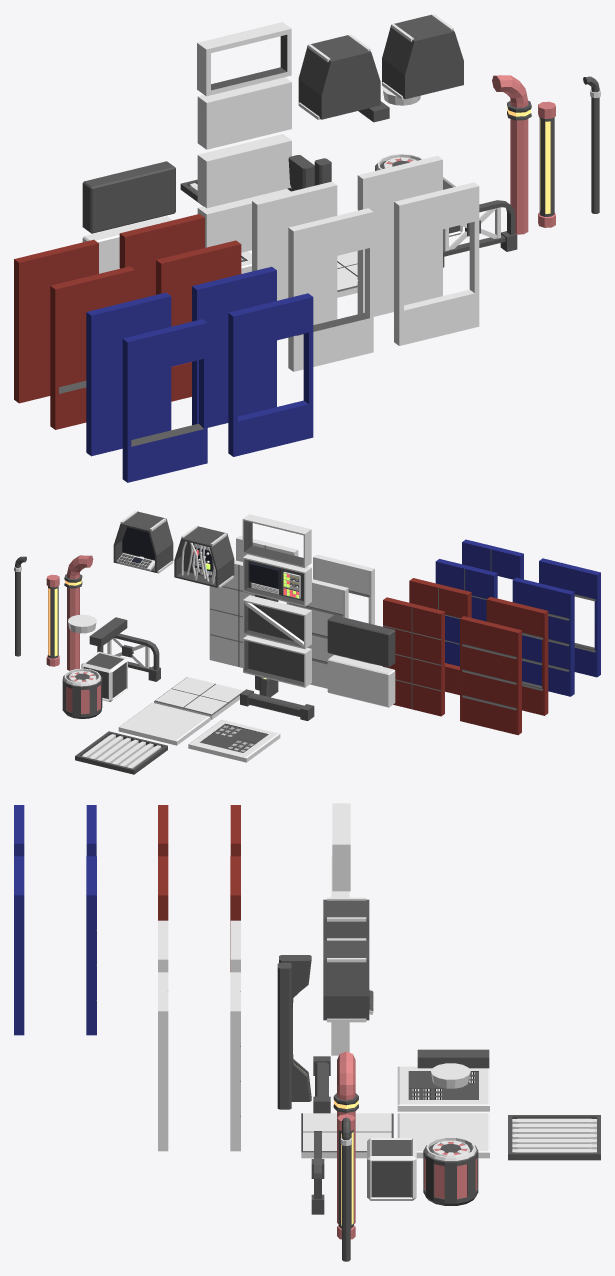
The model's file is Game_Level_Assets.dae.
3 renders of one model, top to bottom at view 1: azimuth 30°, elevation 25°; view 2: azimuth 150°, elevation 25°; view 3: azimuth 270°, elevation 25°, orthographic. The views are drawn at different scales.
Parts seen in each view (by area): view 1: Wall_two_BLUE, Wall_two_RED, Wall_BLUE, Wall, Wall_two_window_BLUE, Wall_window, Wall_window_BLUE, Wall_two_window, Wall_two, Computer_cube, Computer_cube_two, Wall_two_window_RED (+15 smaller); view 2: Wall_two_RED, Wall_RED, Wall_two_BLUE, Computer_cube, Computer_cube_two, Wall, Wall_two_window_RED, Wall_two_window_BLUE, Ship_panel_two, Wall_BLUE, Ship_panel_five, Ship_panel_six (+23 smaller); view 3: Floor_tile_four, Computer_cube_two, Cylinder, Floor_tile_three, Crate, Floor_tile_two, Floor_tile, Pillar, Wall, Wall_BLUE, Wall_window, Wall_window_BLUE (+13 smaller).
Boxes of the visible parts, x1,y1,x2,y2 form: Wall_two_BLUE: (86,292,171,456); Wall_two_RED: (14,239,98,403); Wall_BLUE: (192,266,276,427); Wall: (357,155,442,316); Wall_two_window_BLUE: (122,319,207,482); Wall_window: (394,182,479,345); Wall_window_BLUE: (228,293,313,456); Wall_two_window: (288,208,373,371); Wall_two: (252,181,337,340); Computer_cube: (298,34,380,119); Computer_cube_two: (382,14,463,99); Wall_two_window_RED: (50,266,135,429); Wall_two_RED: (460,616,521,735); Wall_RED: (383,597,444,716); Wall_two_BLUE: (512,577,574,696); Computer_cube: (174,526,234,588); Computer_cube_two: (113,511,173,573); Wall: (209,560,254,667); Wall_two_window_RED: (486,596,548,715); Wall_two_window_BLUE: (539,558,600,677); Ship_panel_two: (243,595,311,649); Wall_BLUE: (435,559,497,666); Ship_panel_five: (327,655,395,707); Ship_panel_six: (327,615,395,667); Floor_tile_four: (508,1115,600,1160); Computer_cube_two: (323,938,373,1022); Cylinder: (423,1137,478,1205); Floor_tile_three: (397,1066,489,1111); Crate: (367,1138,416,1200); Floor_tile_two: (397,1113,489,1158); Floor_tile: (301,1113,393,1158); Pillar: (277,962,291,1109); Wall: (230,972,240,1151); Wall_BLUE: (86,856,96,1035); Wall_window: (158,972,168,1151); Wall_window_BLUE: (14,856,24,1035).
Size of the model in its own units: 79.85 by 63.65 by 32.31.
Materials: 1 (1 with a texture image).
